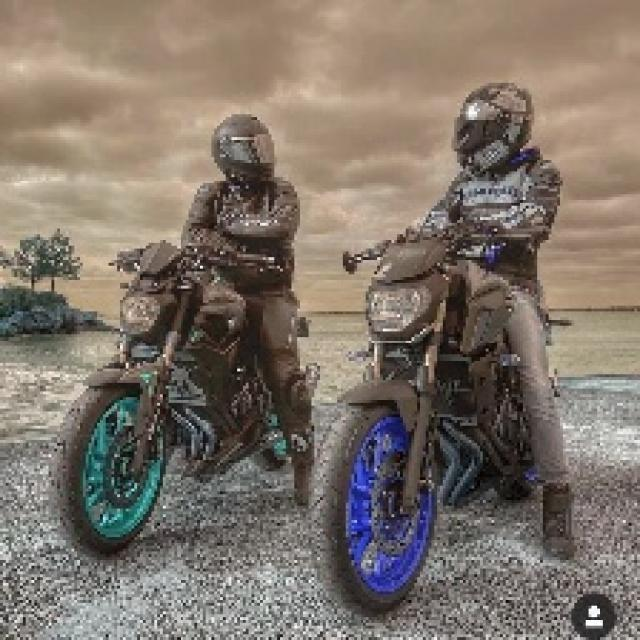bike: (312, 260, 522, 604), (56, 244, 268, 555)
